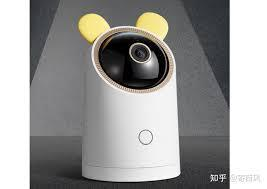maru: (75, 8, 195, 185)
